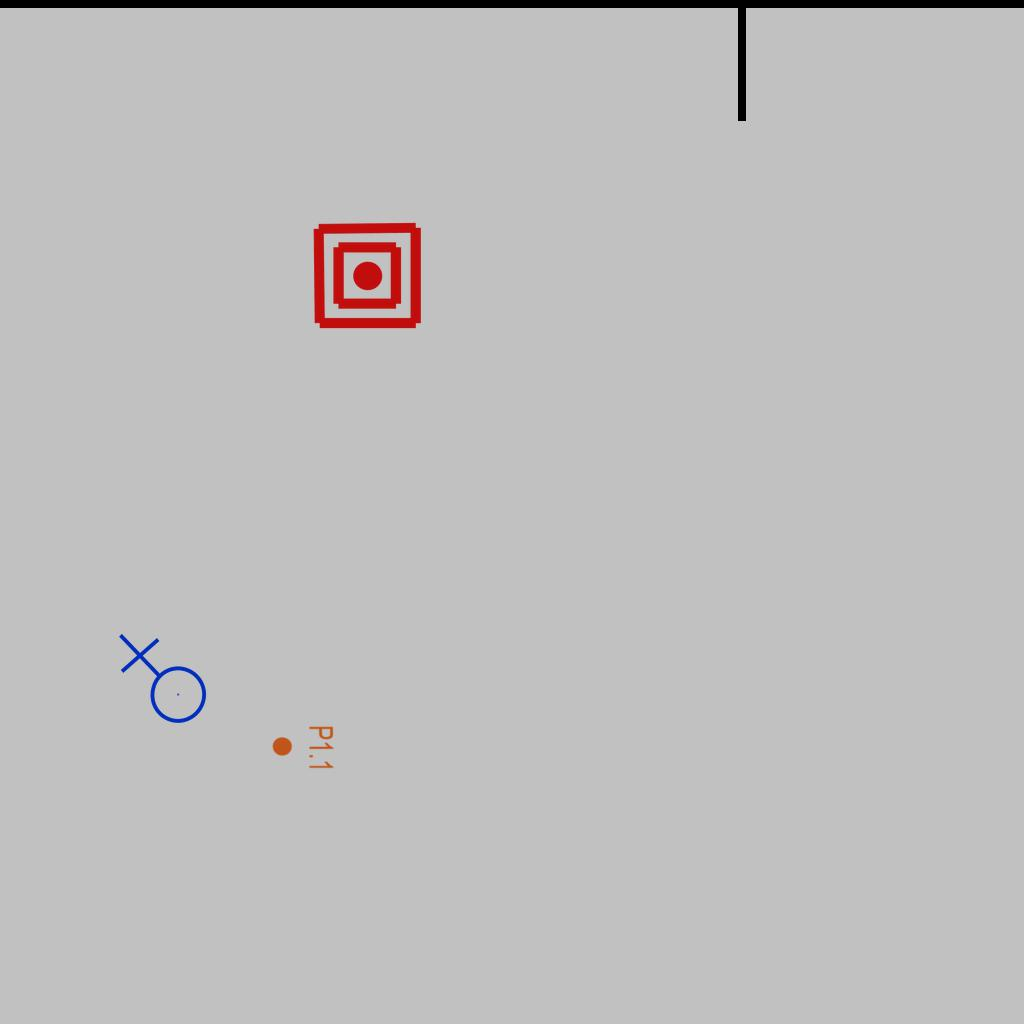Downlight_LED_Einbauleuchten_Flur: (271, 725, 335, 771)
Elektroanschluss_allgemein_230V_Geraeteanschlussdose_230V: (114, 633, 208, 732)
NAM-Nichtautomatischer_Melder: (311, 219, 424, 332)
